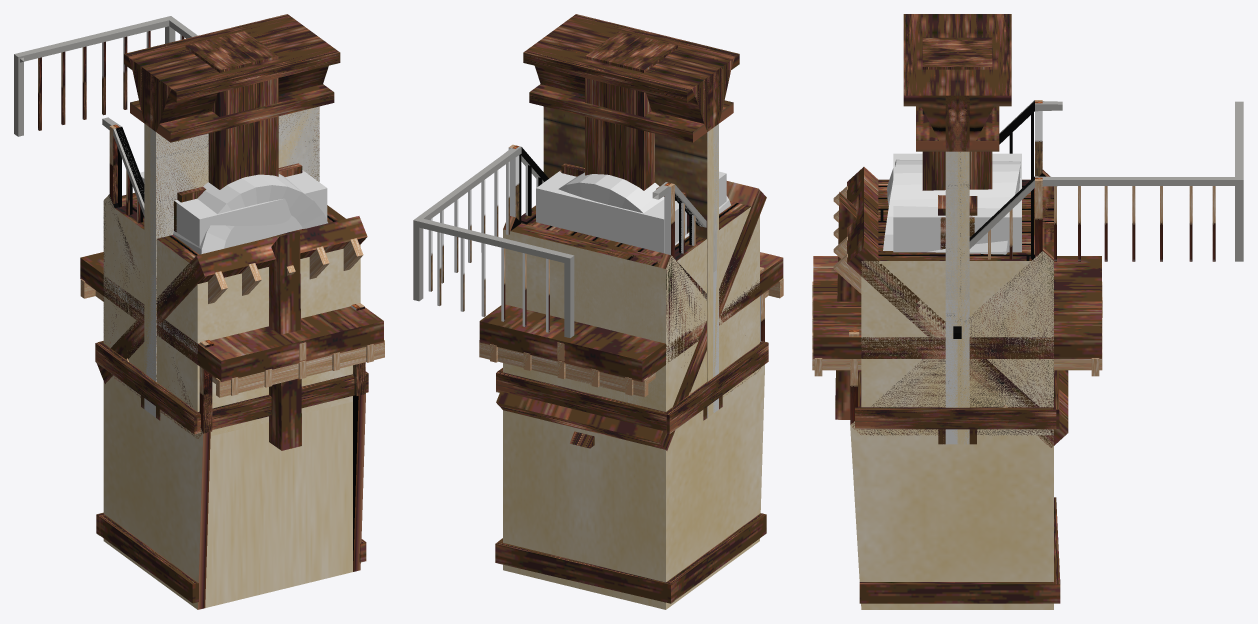
File: House.fbx
3 views of the same model, side by side, from view 1: azimuth 30°, elevation 25°; view 2: azimuth 150°, elevation 25°; view 3: azimuth 270°, elevation 25° (orthographic). The views are drawn at different scales.
Visible parts, largest first — view 1: StiarTall.001, WallBathroomDouble, StiarFlat, WallBathroomDoubleDoor, RoofAtticTop, RoofAtticSide, Pillar, Stiar, CurvedOpening, AtticWallHalf, Stiar.002, WindowMold (+10 smaller); view 2: StiarTall.001, StiarFlat, WallBathroomDouble, Stiar, RoofAtticTop, WallBathroomDoubleDoor, Stiar.002, Pillar, RoofAtticSide, WindowMold, WallBathroomNormal, WallBathroomWindow (+3 smaller); view 3: StiarTall.001, StiarFlat, WallBathroomDouble, Stiar, RoofAtticTop, RoofAtticSide, WallBathroomDoubleDoor, Stiar.002, Pillar, CurvedOpening, WindowMold, AtticWall (+7 smaller).
Part boxes in pixels (<box>): StiarTall.001: <box>96,195,366,609</box>; WallBathroomDouble: <box>124,14,340,420</box>; StiarFlat: <box>95,194,368,437</box>; WallBathroomDoubleDoor: <box>125,14,340,420</box>; RoofAtticTop: <box>80,252,384,397</box>; RoofAtticSide: <box>96,216,367,383</box>; Pillar: <box>185,31,278,189</box>; Stiar: <box>98,127,365,439</box>; CurvedOpening: <box>173,174,327,254</box>; AtticWallHalf: <box>269,231,301,450</box>; Stiar.002: <box>14,16,197,136</box>; WindowMold: <box>140,170,327,246</box>; StiarTall.001: <box>495,246,766,609</box>; StiarFlat: <box>496,201,768,433</box>; WallBathroomDouble: <box>523,14,739,420</box>; Stiar: <box>503,147,766,413</box>; RoofAtticTop: <box>479,252,783,397</box>; WallBathroomDoubleDoor: <box>523,14,736,419</box>; Stiar.002: <box>413,146,668,337</box>; Pillar: <box>585,31,677,190</box>; RoofAtticSide: <box>496,181,766,450</box>; WindowMold: <box>536,171,726,253</box>; WallBathroomNormal: <box>543,30,718,417</box>; WallBathroomWindow: <box>543,69,729,415</box>; StiarTall.001: <box>850,264,1060,609</box>; StiarFlat: <box>855,179,1059,435</box>; WallBathroomDouble: <box>903,14,1011,444</box>; Stiar: <box>850,101,1053,435</box>; RoofAtticTop: <box>812,256,1102,376</box>; RoofAtticSide: <box>833,167,1068,447</box>; WallBathroomDoubleDoor: <box>903,14,1011,444</box>; Stiar.002: <box>1035,101,1243,261</box>; Pillar: <box>922,37,992,190</box>; CurvedOpening: <box>883,159,1020,254</box>; WindowMold: <box>893,153,1021,252</box>; AtticWall: <box>861,337,1053,358</box>.
Bounding box in the file's own units: 225 × 593 × 448.
